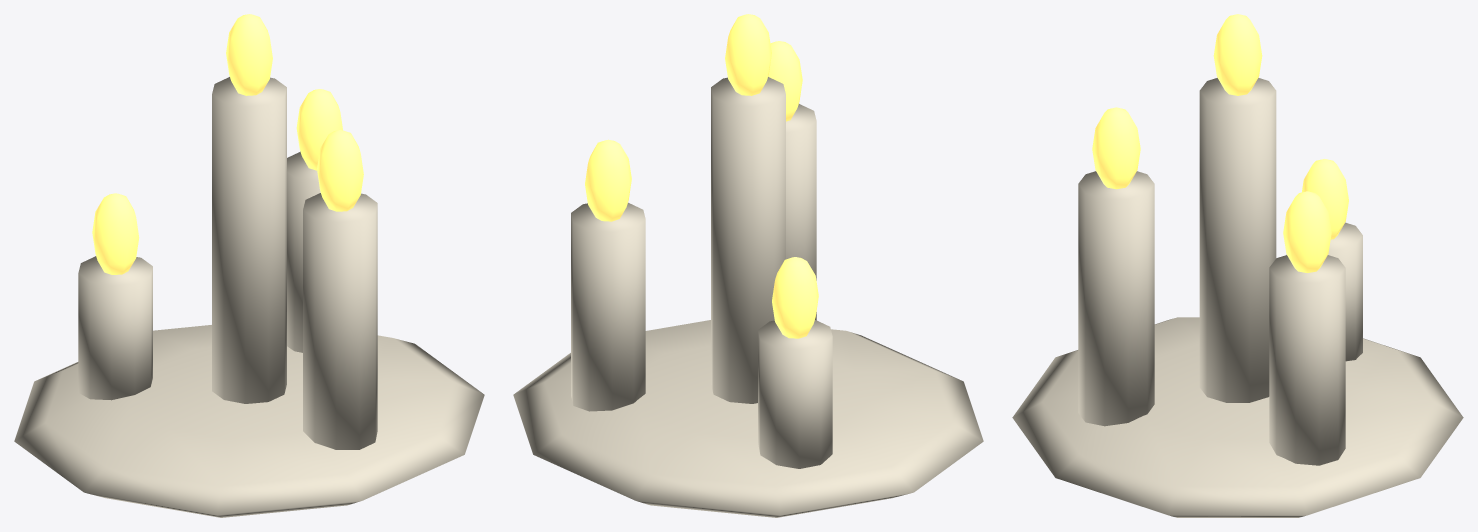
Rendered from candle_group_drip_pile.glb.
The picture shows the model from 3 angles, left to right: view 1: azimuth 30°, elevation 25°; view 2: azimuth 150°, elevation 25°; view 3: azimuth 270°, elevation 25°; orthographic projection.
Visible parts, largest first — view 1: GD_candle_group_drip_pile__m0, GD_candle_group_drip_pile__m1; view 2: GD_candle_group_drip_pile__m0, GD_candle_group_drip_pile__m1; view 3: GD_candle_group_drip_pile__m0, GD_candle_group_drip_pile__m1.
Boxes of the visible parts, left/top/right/bottom form: GD_candle_group_drip_pile__m0: left=14, top=77, right=484, bottom=517; GD_candle_group_drip_pile__m1: left=92, top=14, right=363, bottom=274; GD_candle_group_drip_pile__m0: left=513, top=77, right=983, bottom=517; GD_candle_group_drip_pile__m1: left=585, top=14, right=818, bottom=338; GD_candle_group_drip_pile__m0: left=1012, top=78, right=1463, bottom=517; GD_candle_group_drip_pile__m1: left=1092, top=14, right=1348, bottom=272.
Bounding box in the file's own units: 0.2663 × 0.2766 × 0.26.
